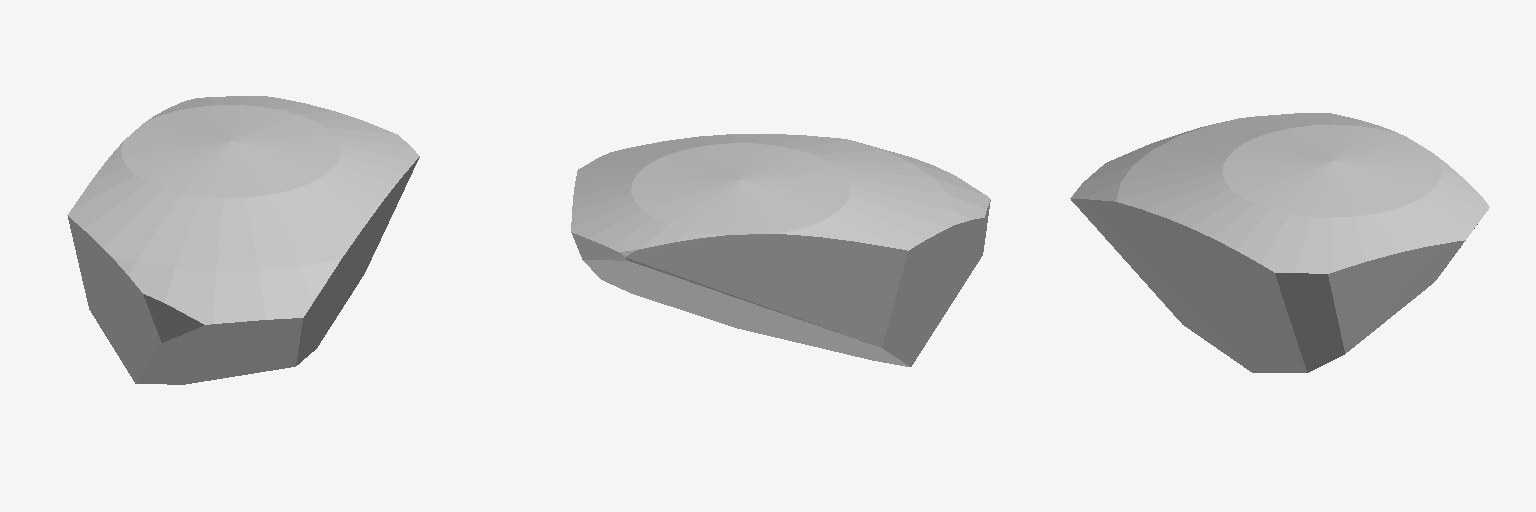
The model's file is Sphere_Cell_Fracture40.obj.
3 renders of one model, left to right at view 1: azimuth 30°, elevation 25°; view 2: azimuth 150°, elevation 25°; view 3: azimuth 270°, elevation 25°, orthographic.
Size of the model in its own units: 0.6819 by 0.3728 by 0.7455.